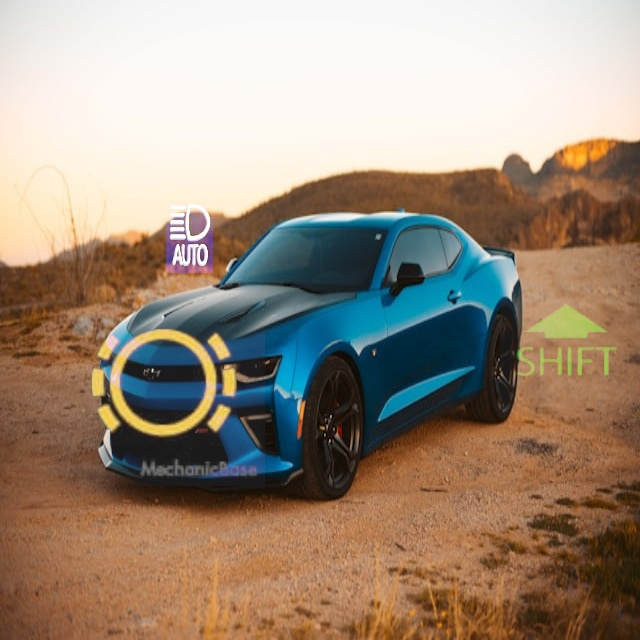symbol: (61, 282, 265, 486), (102, 153, 277, 328), (500, 275, 633, 408)
